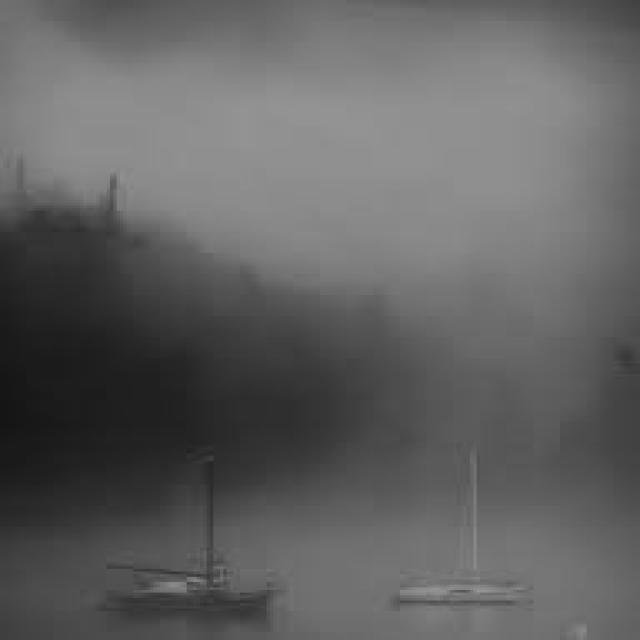fishing boat: (119, 435, 257, 640), (404, 437, 522, 616)
